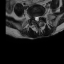CCS_normal: (35, 14, 37, 23)
LFS_stenosis: (39, 13, 41, 18)
LLS_normal: (37, 15, 39, 22)
RFS_severe_stenosis: (31, 14, 34, 19)
RLS_normal: (34, 14, 35, 21)
